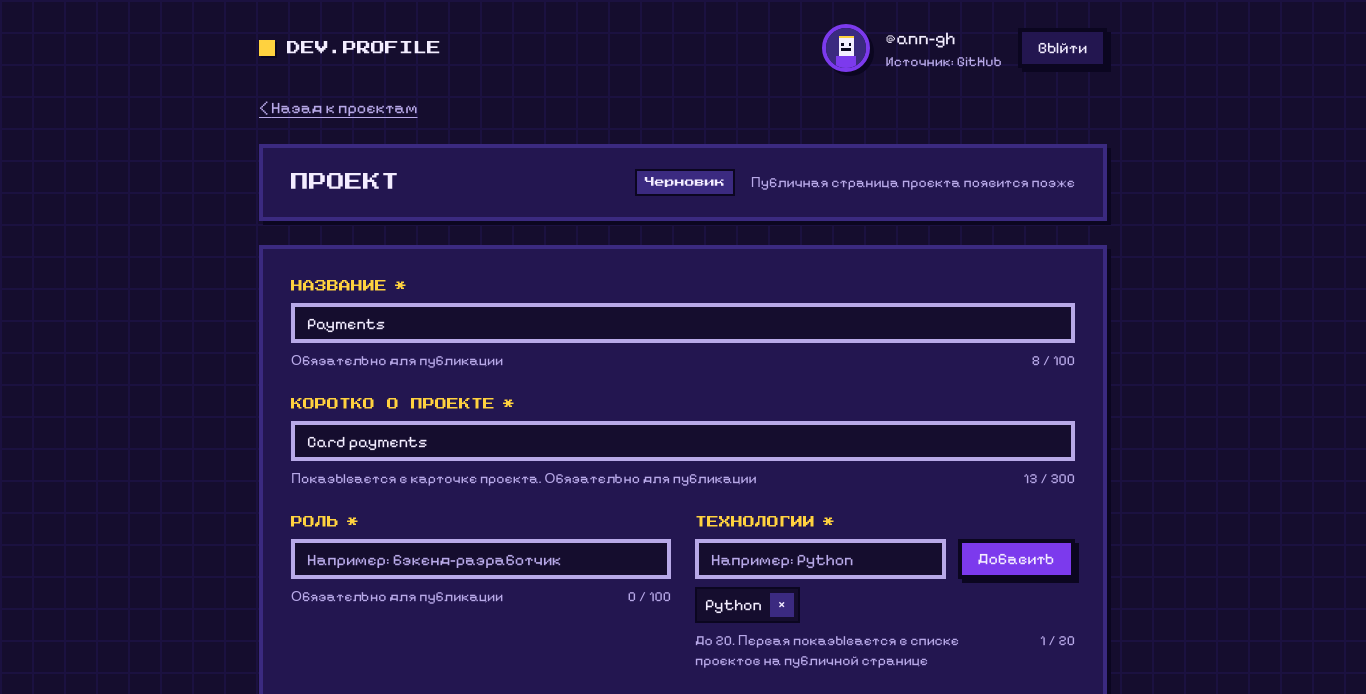
Test: link › Enter in the input links and does not submit the form
The image size is (1366, 694).
Replace the text in the field labelled "Название *" with "Unsaved title" at (683, 323), box [291, 303, 1075, 343]
(page scrolled)
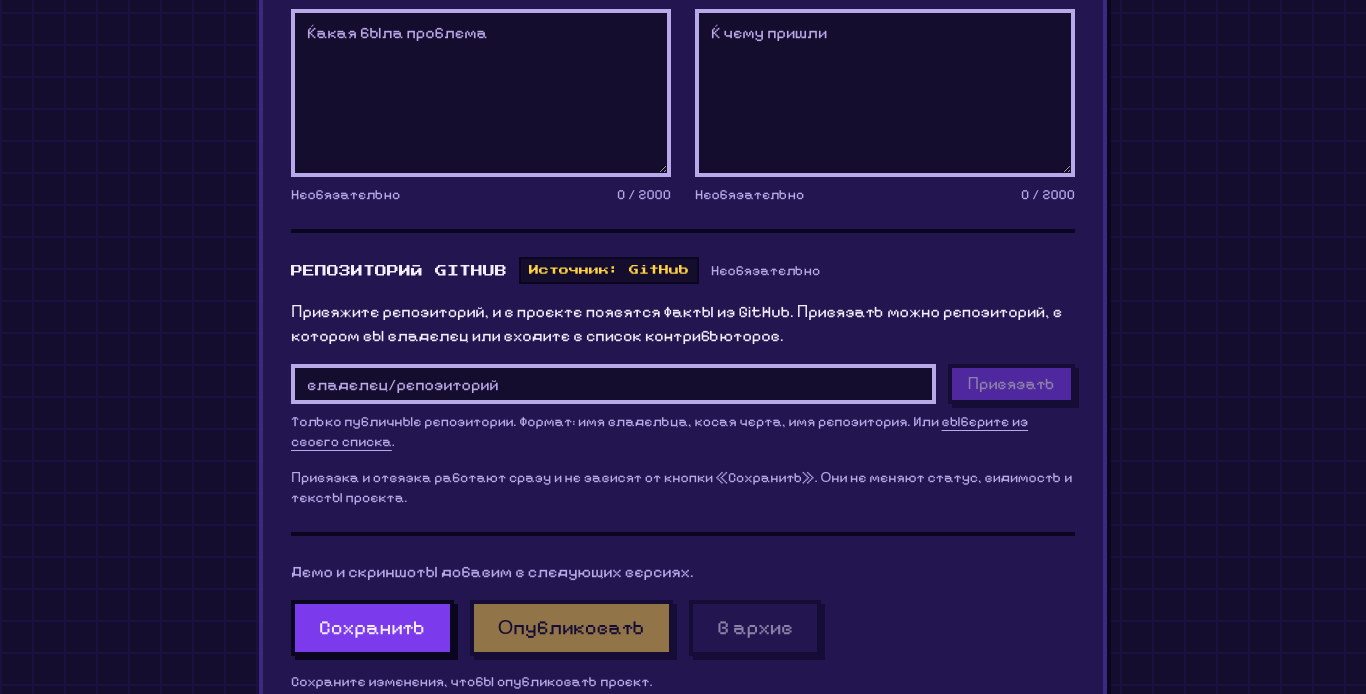
Type "octocat/Hello-World" into the field named "Репозиторий GitHub" at (613, 384), box [291, 364, 936, 404]
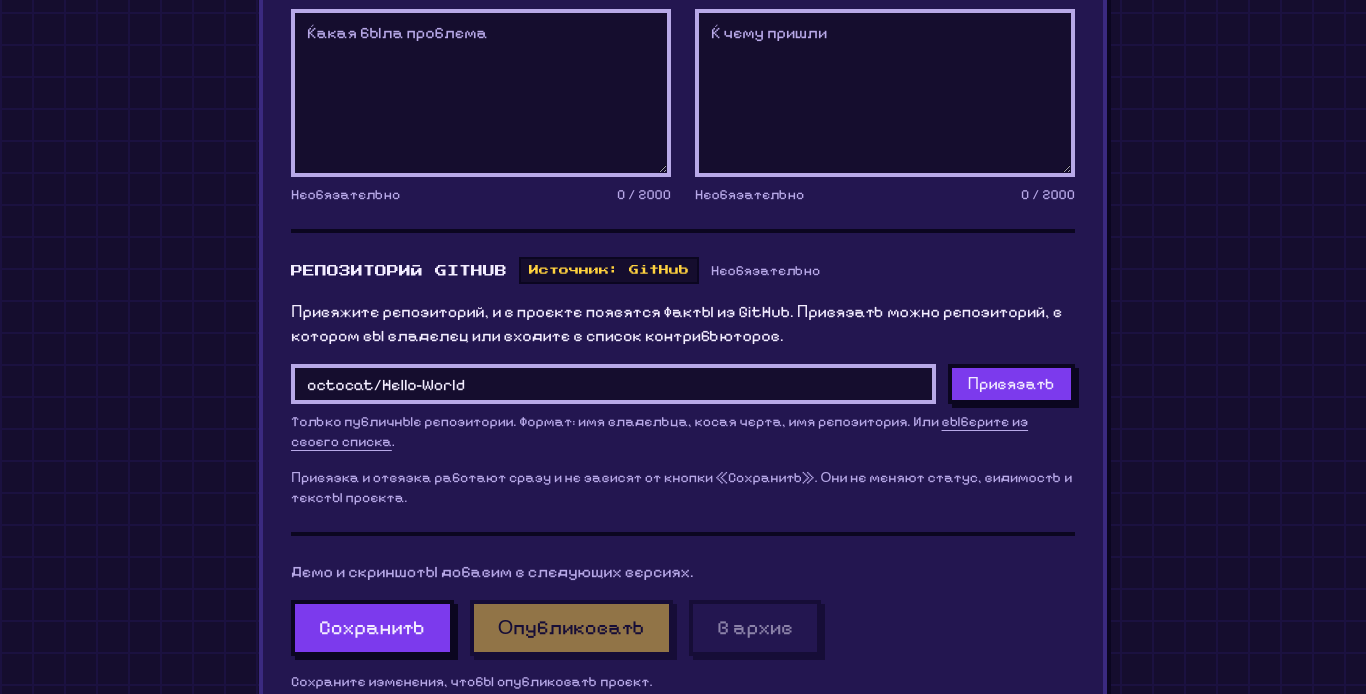
Press Enter in the field named "Репозиторий GitHub", box [291, 364, 936, 404]
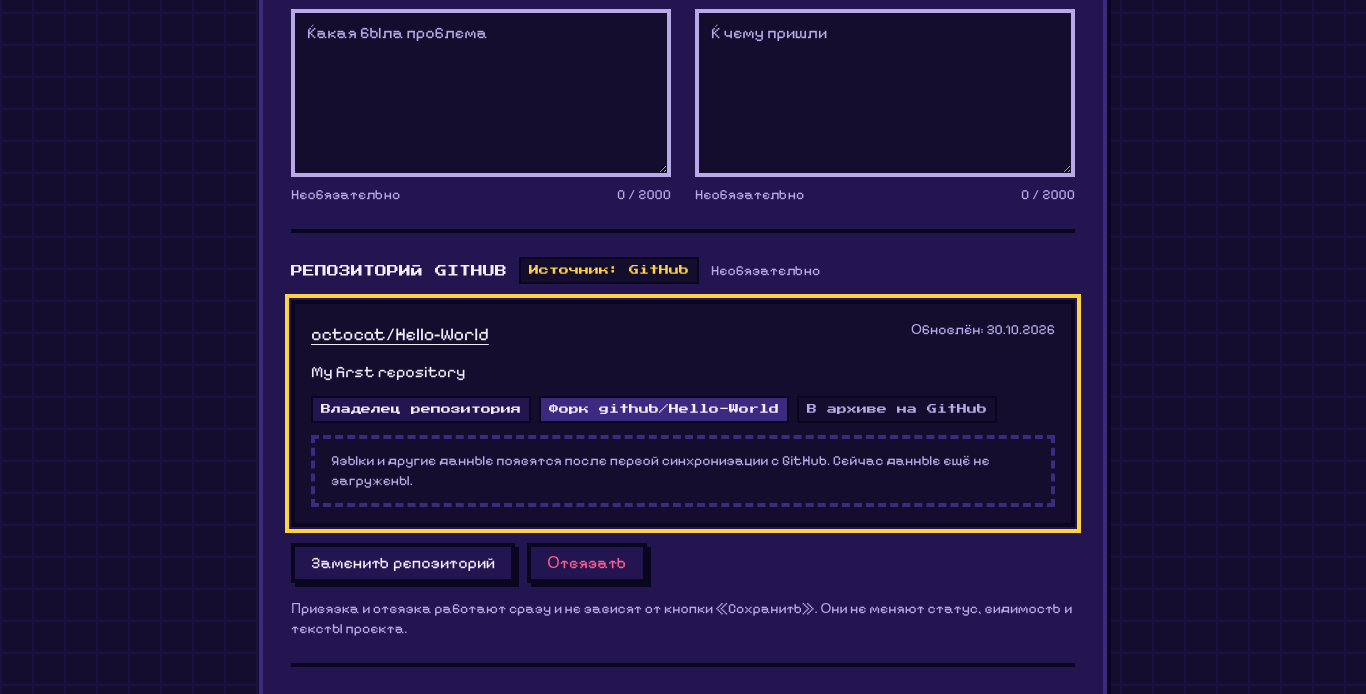
expect the element named "Привязанный репозиторий" is shown: met, box [291, 300, 1075, 527]
